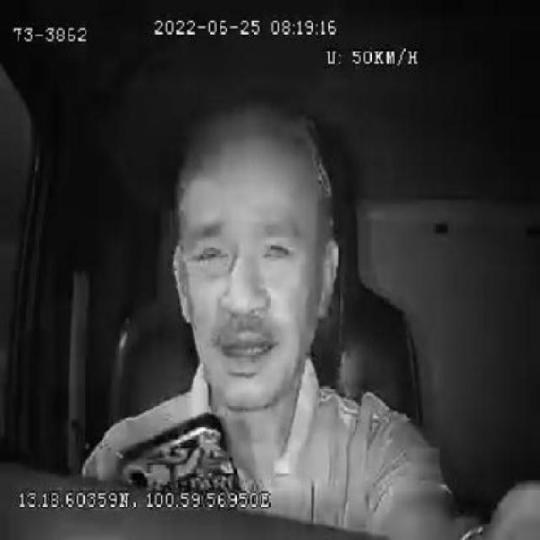phone: (117, 412, 242, 484)
